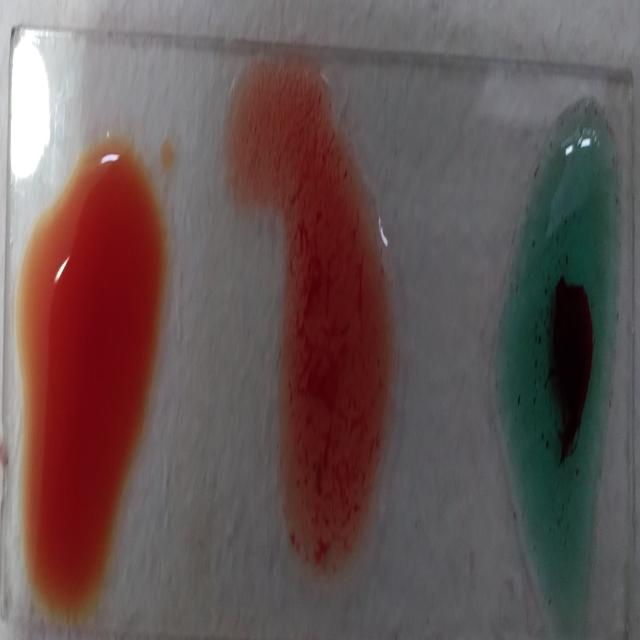A: (509, 103, 623, 632)
D: (250, 45, 399, 582)
